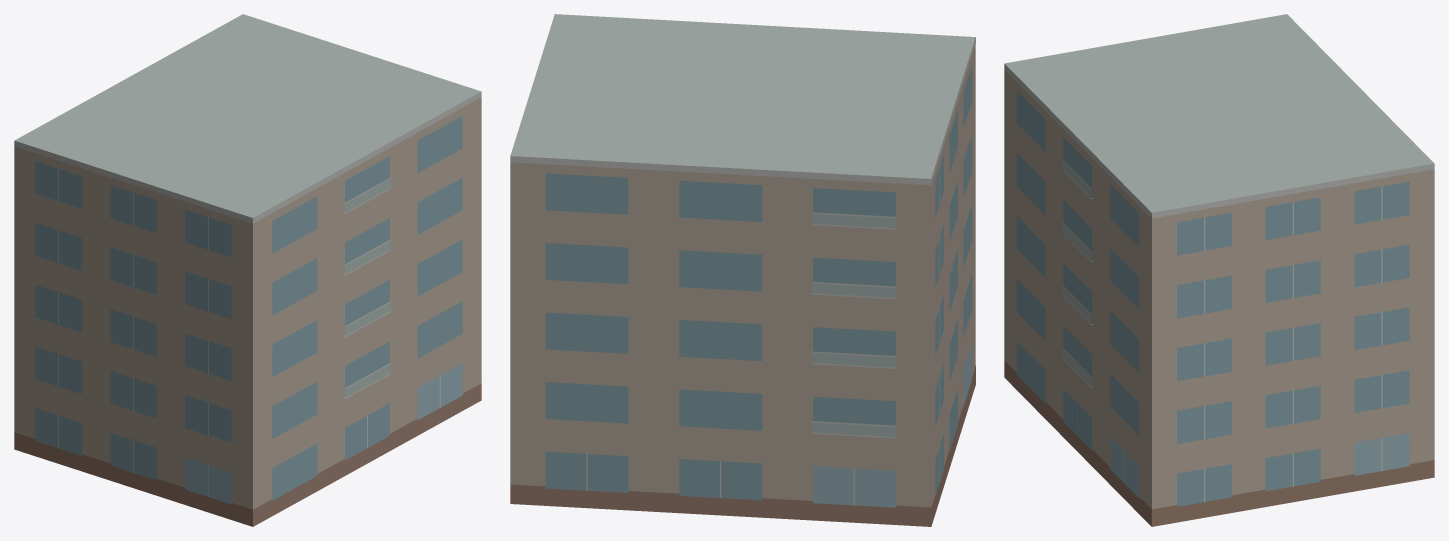
File: survey-upis-32745576.glb
3 views of the same model, side by side, from view 1: azimuth 30°, elevation 25°; view 2: azimuth 150°, elevation 25°; view 3: azimuth 270°, elevation 25° (orthographic). The views are drawn at different scales.
Parts seen in each view (by area): view 1: survey-upis-32745576.tmp; view 2: survey-upis-32745576.tmp; view 3: survey-upis-32745576.tmp.
Boxes of the visible parts, x1,y1,x2,y2 form: survey-upis-32745576.tmp: [14, 14, 481, 526]; survey-upis-32745576.tmp: [510, 14, 975, 526]; survey-upis-32745576.tmp: [1004, 14, 1434, 526].
Size of the model in its own units: 18.34 by 13.5 by 16.77.
